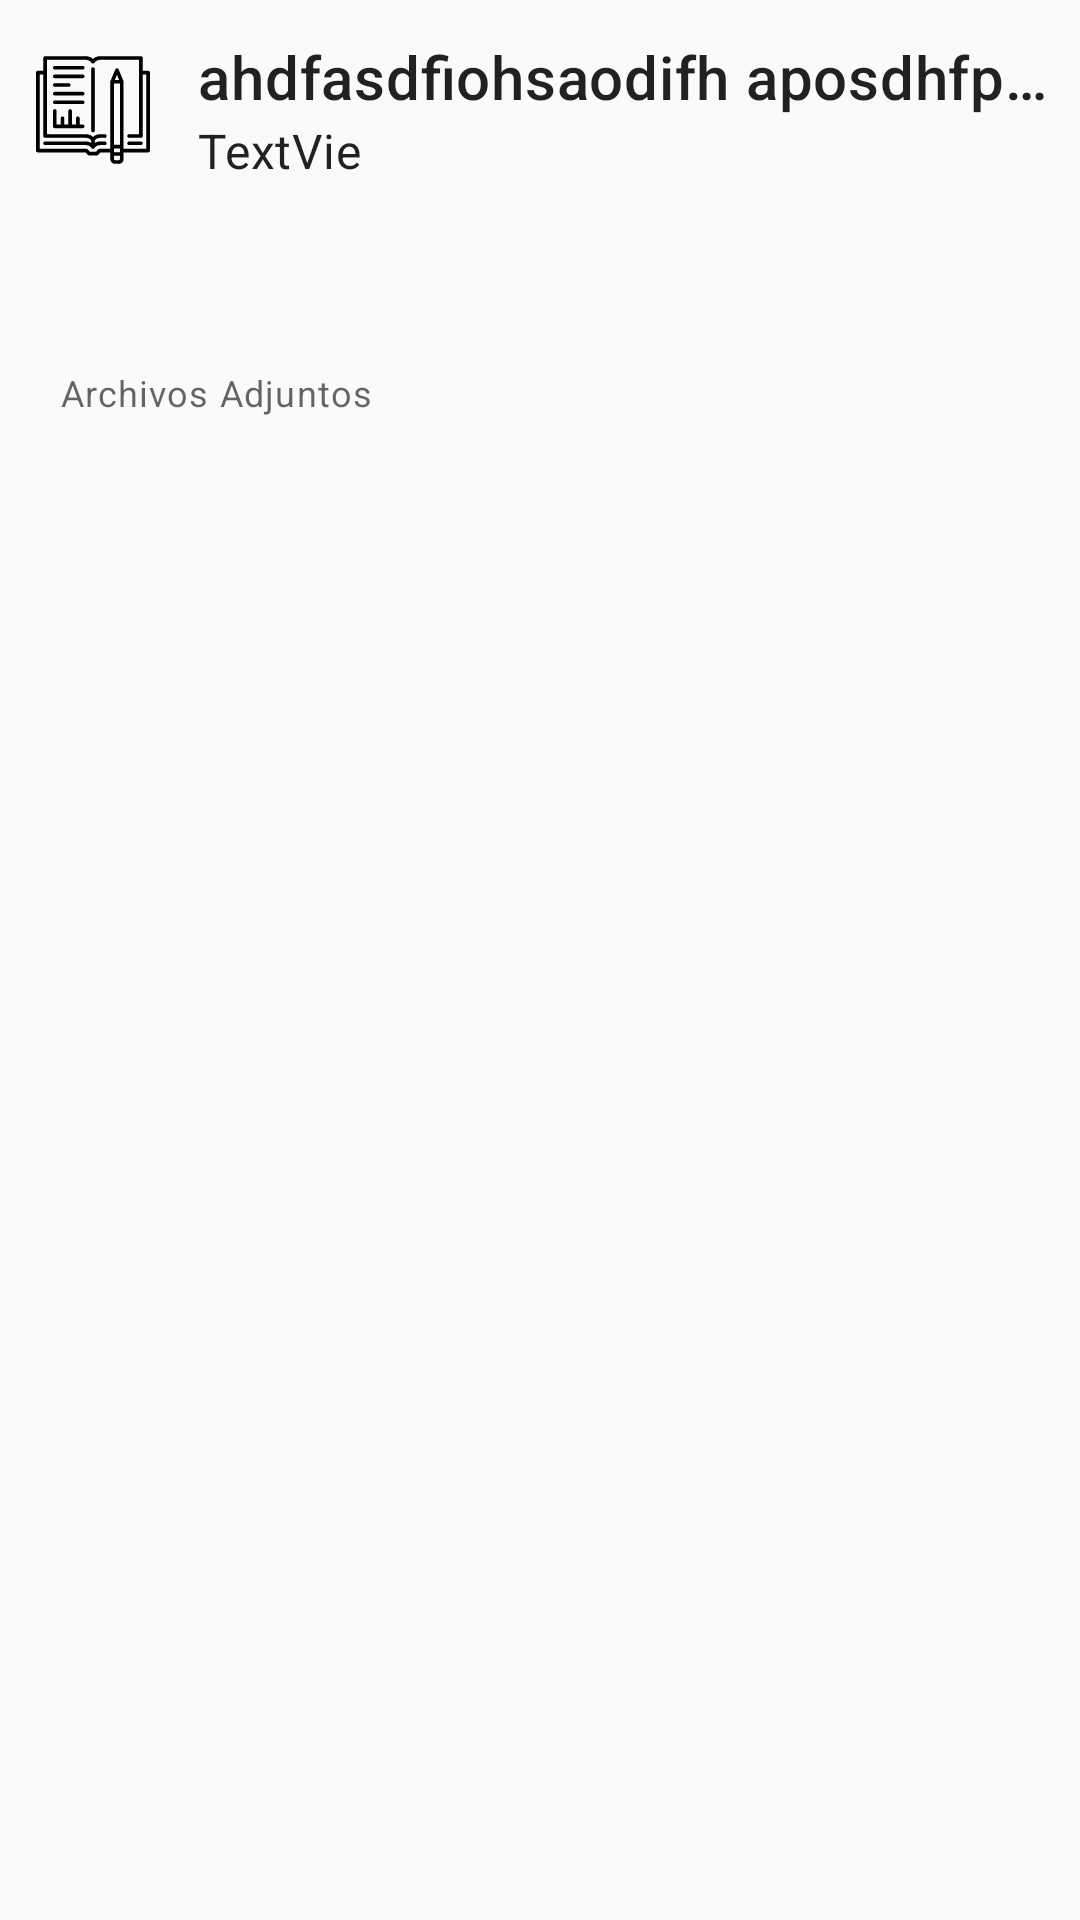

Icon click points for this 1080 × 1920 phone screenshot, format (x=x, y=y):
tarea publicacion: (x=93, y=110)
